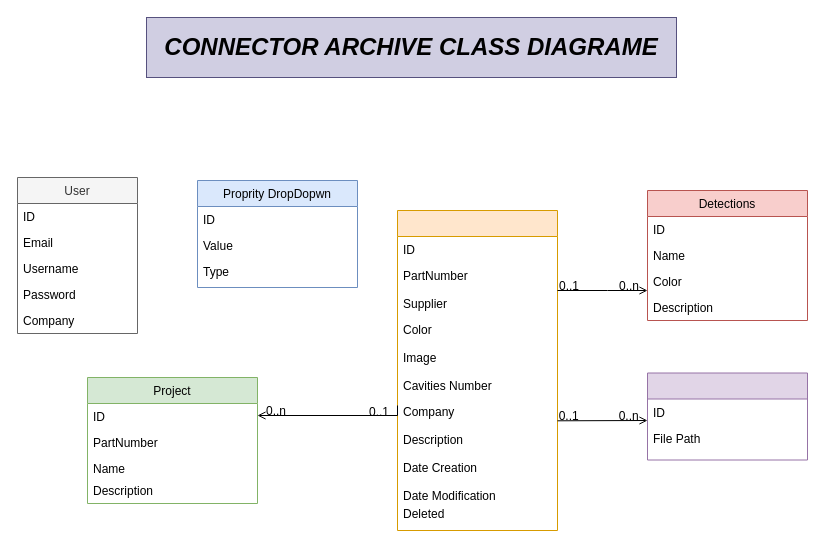
This 825x548 diagram has some shape labels left out. Each missing label, with the box of its shape:
Connector: (396, 210, 558, 530)
Document: (646, 372, 808, 460)
